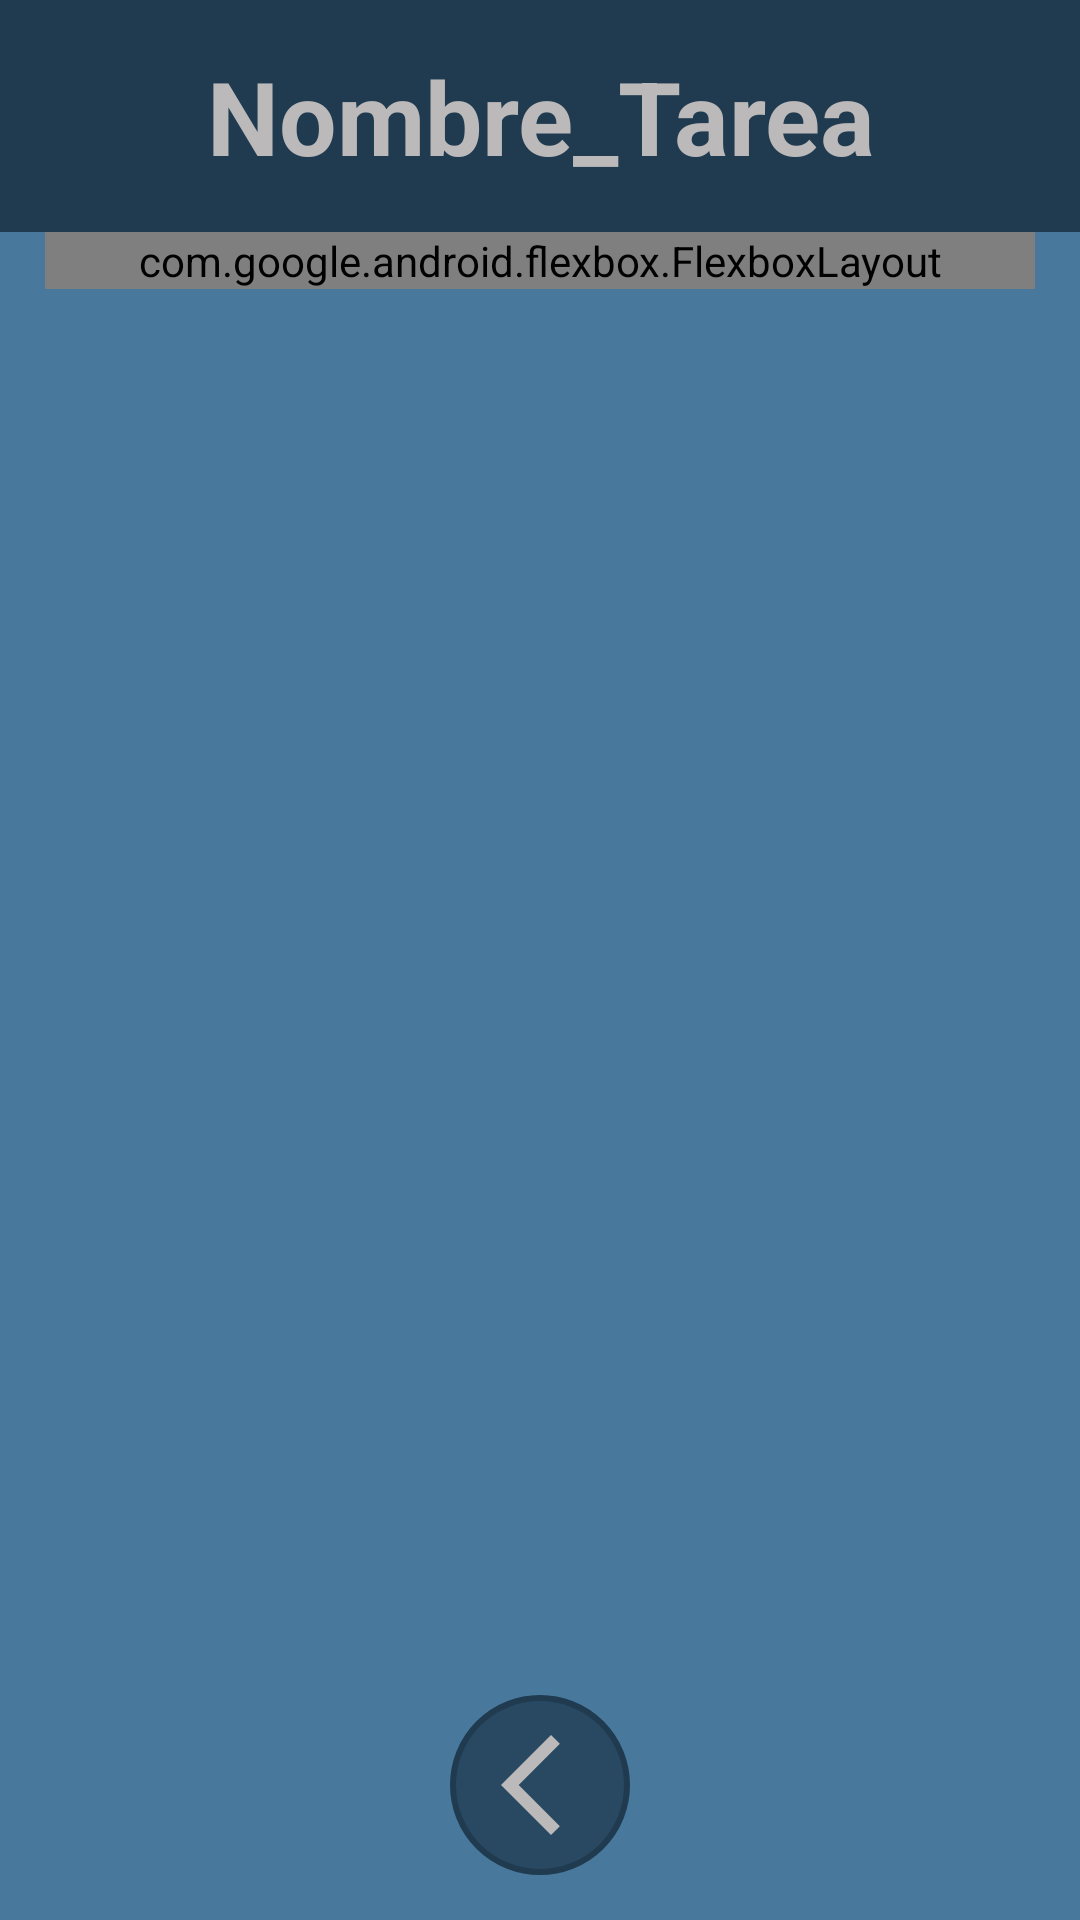

Named icons in this screenshot (1080x1920) and their centers, point (x, y):
flecha atras: point (530, 1785)
